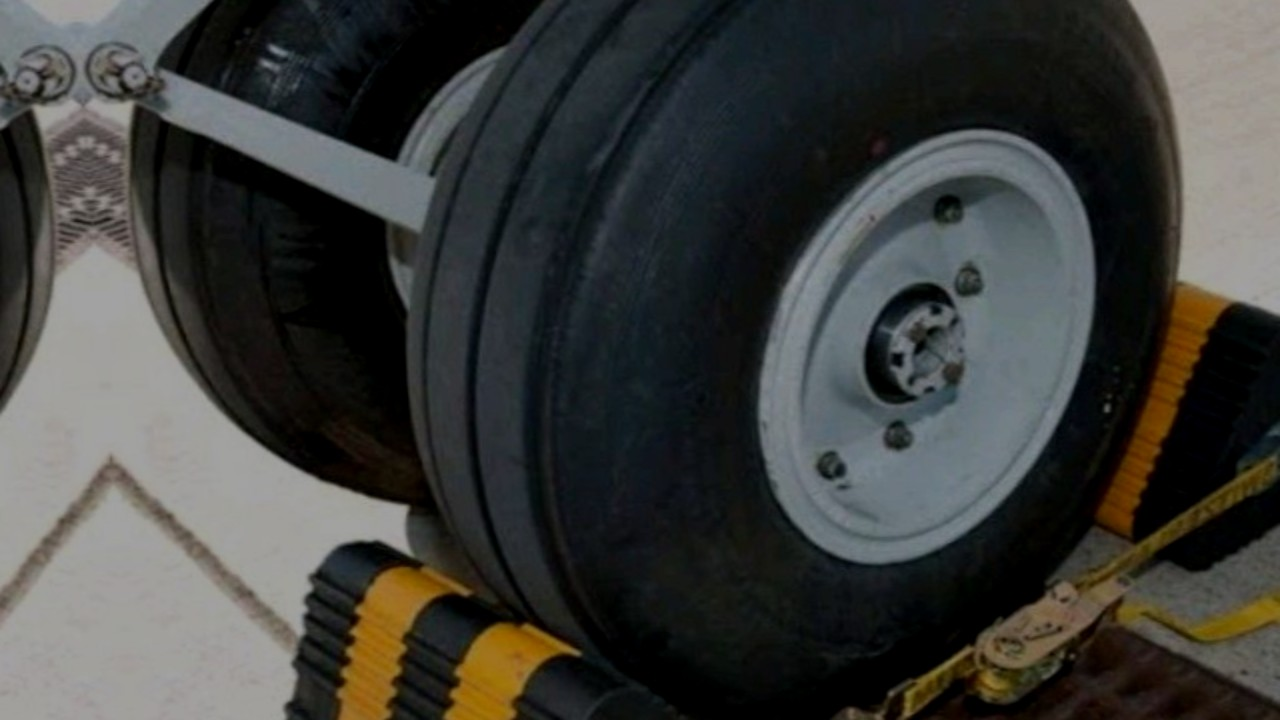chock: (243, 523, 796, 720), (1014, 268, 1280, 582)
wheel: (385, 0, 1229, 720), (120, 0, 608, 503)
